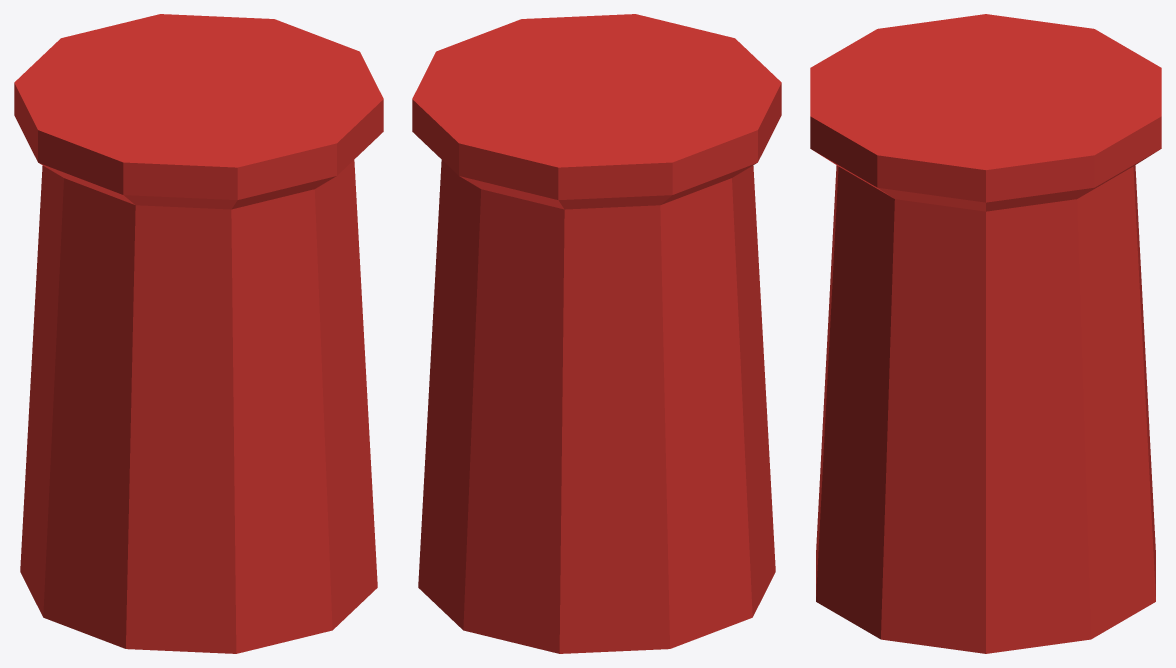
The model's file is PRP_PlasticStool.fbx.
3 views of the same model, side by side, from view 1: azimuth 30°, elevation 25°; view 2: azimuth 150°, elevation 25°; view 3: azimuth 270°, elevation 25° (orthographic).
Parts seen in each view (by area): view 1: PRP_PlasticStool; view 2: PRP_PlasticStool; view 3: PRP_PlasticStool.
Part boxes in pixels (left/top/right/bottom): PRP_PlasticStool: left=14, top=14, right=383, bottom=653; PRP_PlasticStool: left=412, top=14, right=781, bottom=653; PRP_PlasticStool: left=810, top=14, right=1161, bottom=653.
Size of the model in its own units: 0.31 by 0.45 by 0.2948.
